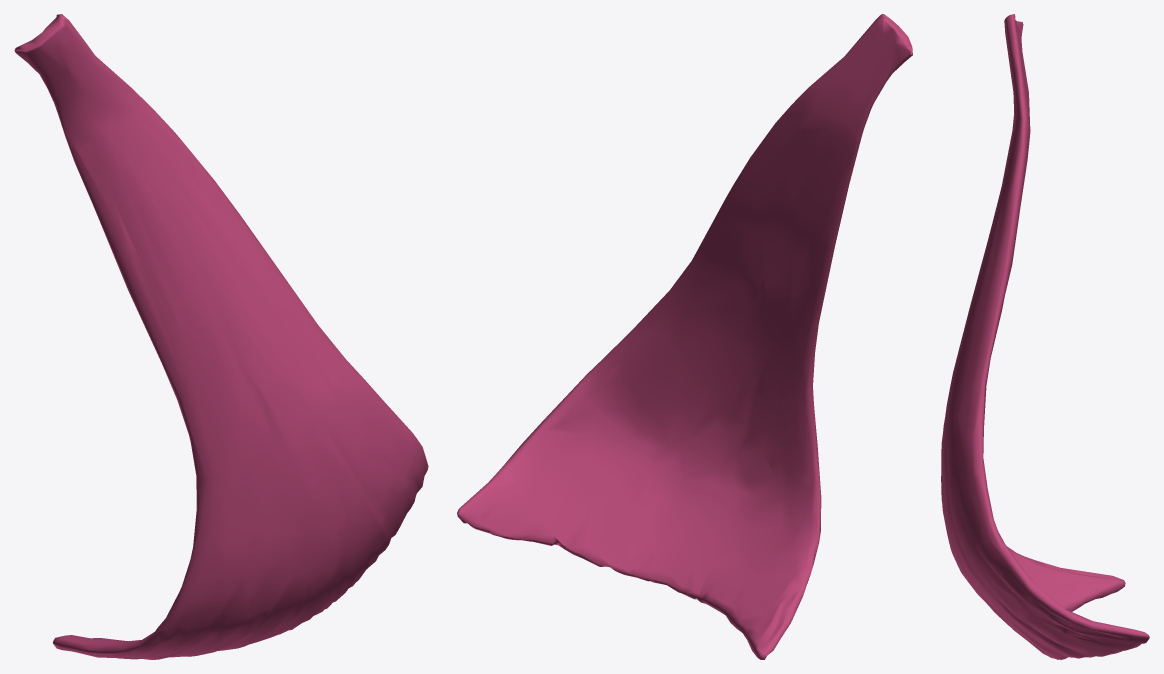
3 views of the same model, side by side, from view 1: azimuth 30°, elevation 25°; view 2: azimuth 150°, elevation 25°; view 3: azimuth 270°, elevation 25° (orthographic). The views are drawn at different scales.
Parts seen in each view (by area): view 1: 左侧上睑提肌; view 2: 左侧上睑提肌; view 3: 左侧上睑提肌.
Part boxes in pixels (x1=…): 左侧上睑提肌: x1=14, y1=14, x2=428, y2=659; 左侧上睑提肌: x1=457, y1=14, x2=912, y2=659; 左侧上睑提肌: x1=941, y1=14, x2=1149, y2=659.
Bounding box in the file's own units: 0.0444 × 0.0678 × 0.0234.
